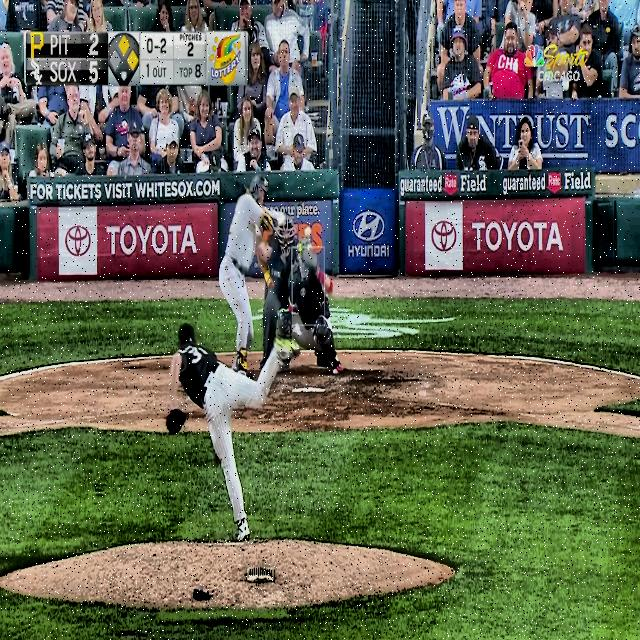baseball: (304, 226, 311, 237)
